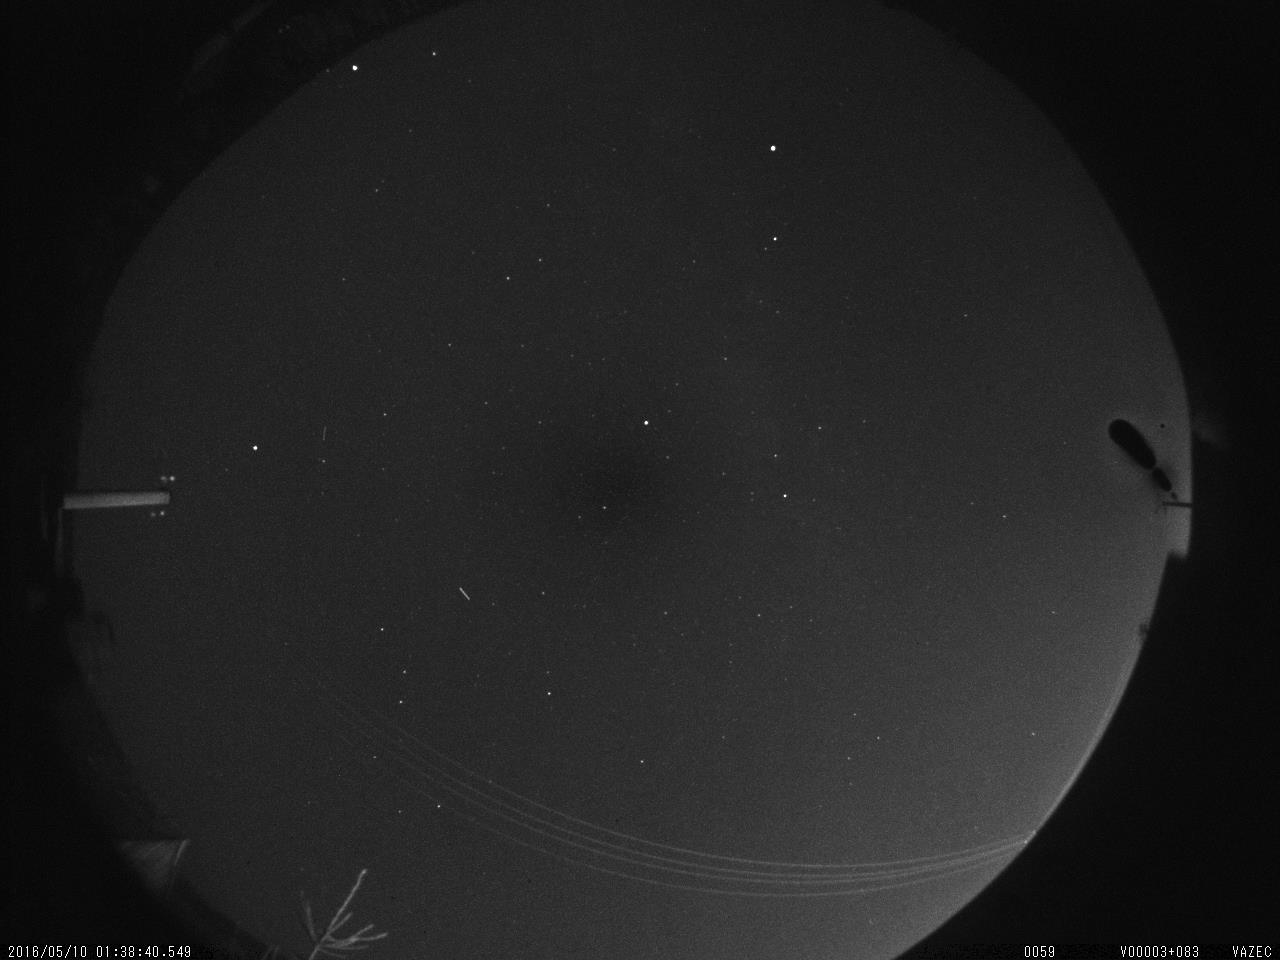meteor: (447, 578, 483, 612)
